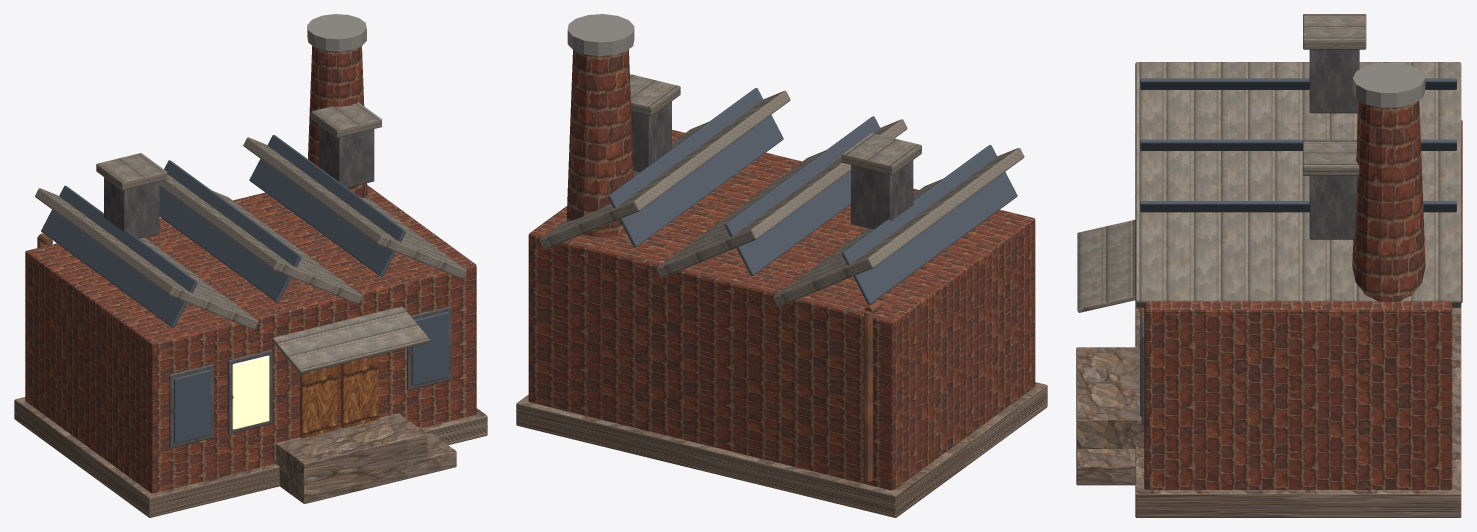
File: factory-staged.glb
3 views of the same model, side by side, from view 1: azimuth 30°, elevation 25°; view 2: azimuth 150°, elevation 25°; view 3: azimuth 270°, elevation 25° (orthographic). The views are drawn at different scales.
Parts seen in each view (by area): view 1: wallsUpper, wallsLower, dock, footing, roofGlass.002, roofGlass, roofGlass.001, canopy, roofTooth, roofTooth.002, roofTooth.001, chimney (+14 smaller); view 2: wallsUpper, wallsLower, footing, chimney, roofGlass.002, roofGlass, roofGlass.001, roofTooth, roofTooth.001, roofTooth.002, ventStack, chimneyCap (+4 smaller); view 3: wallsUpper, roofTooth.002, wallsLower, chimney, roofTooth, roofTooth.001, footing, dock, canopy, ventStack, ventStack.001, chimneyCap (+7 smaller).
Part boxes in pixels (x1,y1,x2,y2): wallsUpper: (25, 185, 476, 445); wallsLower: (25, 353, 476, 493); dock: (276, 413, 427, 503); footing: (14, 397, 487, 517); roofGlass.002: (249, 135, 406, 276); roofGlass: (41, 185, 197, 327); roofGlass.001: (159, 160, 301, 302); canopy: (272, 306, 429, 373); roofTooth: (35, 188, 258, 329); roofTooth.002: (243, 137, 466, 278); roofTooth.001: (159, 174, 362, 304); chimney: (308, 45, 367, 198); wallsUpper: (528, 130, 1035, 436); wallsLower: (528, 333, 1035, 490); footing: (516, 382, 1047, 517); chimney: (566, 49, 633, 237); roofGlass.002: (607, 88, 783, 247); roofGlass: (841, 145, 1017, 304); roofGlass.001: (724, 116, 880, 275); roofTooth: (773, 148, 1024, 306); roofTooth.001: (656, 119, 907, 277); roofTooth.002: (539, 90, 790, 249); ventStack: (851, 160, 913, 229); chimneyCap: (567, 14, 634, 56); wallsUpper: (1144, 301, 1452, 432); roofTooth.002: (1135, 184, 1461, 307); wallsLower: (1144, 432, 1452, 489); chimney: (1352, 101, 1425, 301); roofTooth: (1135, 62, 1461, 124); roofTooth.001: (1135, 123, 1461, 185); footing: (1135, 306, 1461, 517); dock: (1076, 347, 1144, 449); canopy: (1077, 220, 1135, 312); ventStack: (1309, 49, 1359, 113); ventStack.001: (1309, 176, 1357, 239); chimneyCap: (1352, 63, 1425, 107).
Bounding box in the file's own units: 5.2 × 5.04 × 4.26.
Materials: 12 (9 with a texture image).
